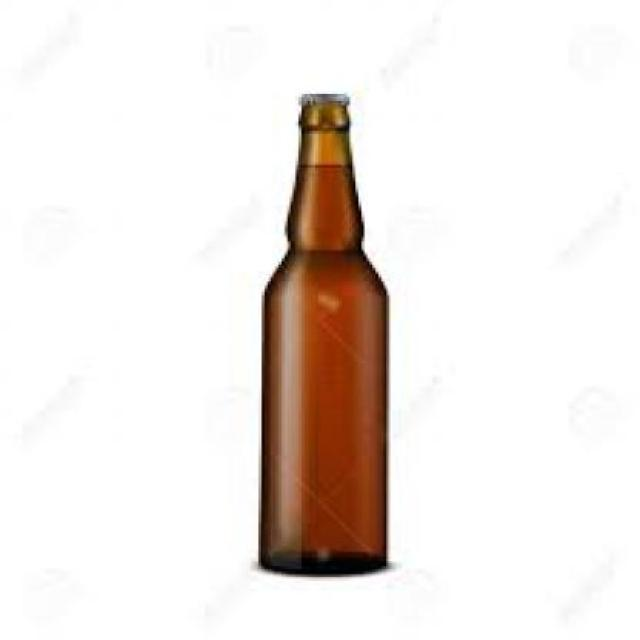kaca: (257, 103, 388, 572)
